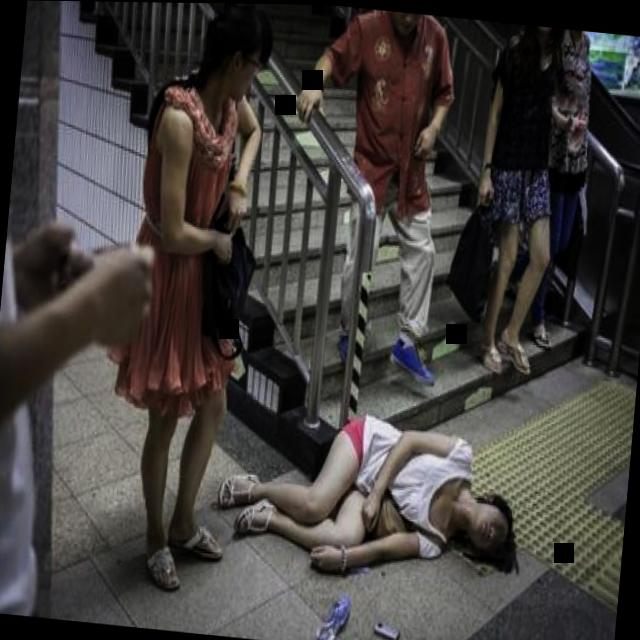Fall-Detected: (200, 376, 536, 610)
